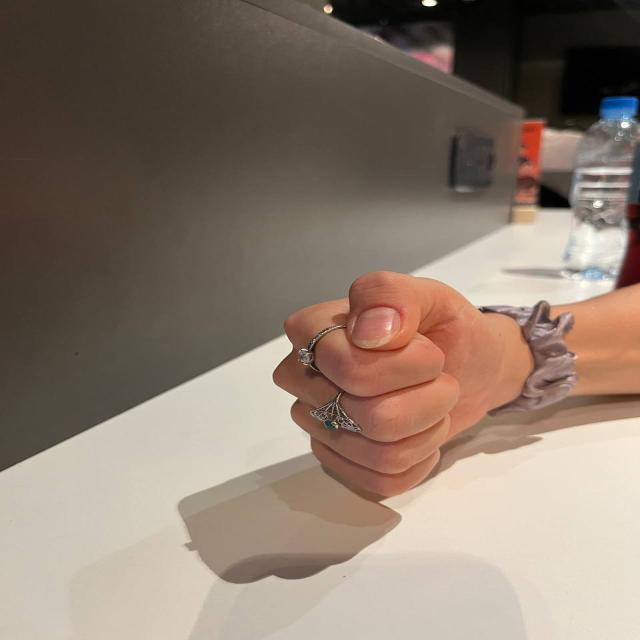a: (255, 260, 489, 497)
